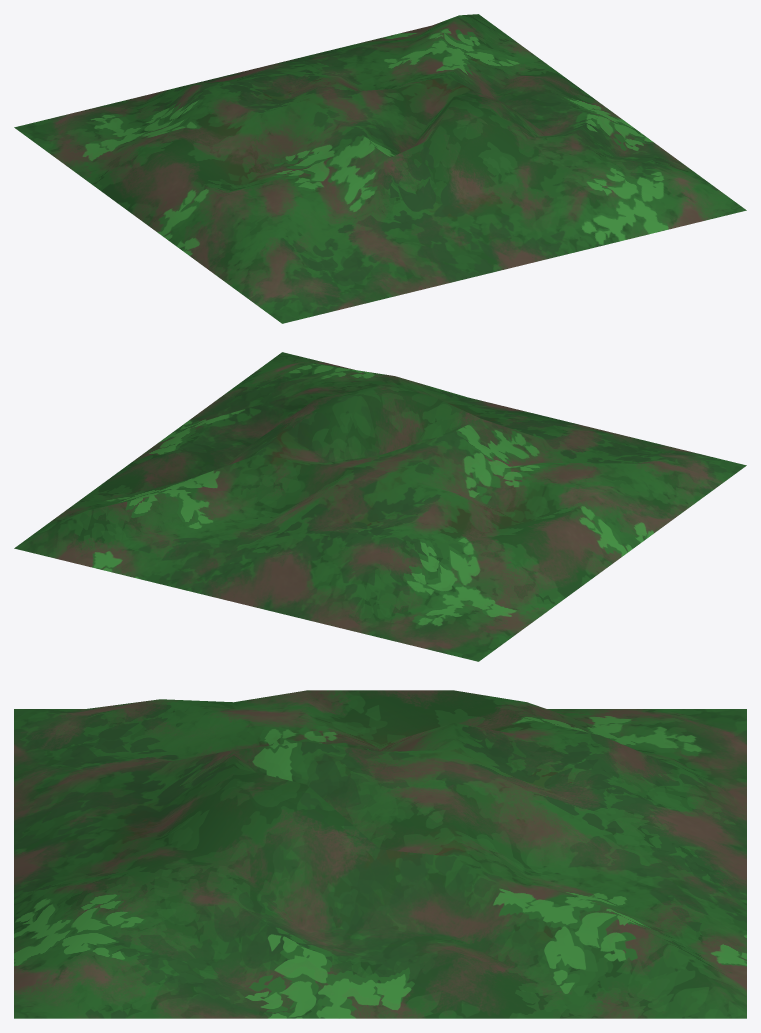
File: groundcover.fbx
3 views of the same model, one above another, from view 1: azimuth 30°, elevation 25°; view 2: azimuth 150°, elevation 25°; view 3: azimuth 270°, elevation 25° (orthographic). The views are drawn at different scales.
Parts seen in each view (by area): view 1: Grid; view 2: Grid; view 3: Grid.
Boxes of the visible parts, bbox=[...] form: Grid: bbox=[14, 14, 746, 323]; Grid: bbox=[14, 352, 746, 661]; Grid: bbox=[14, 690, 746, 1018].
Size of the model in its own units: 200 by 33.09 by 200.
